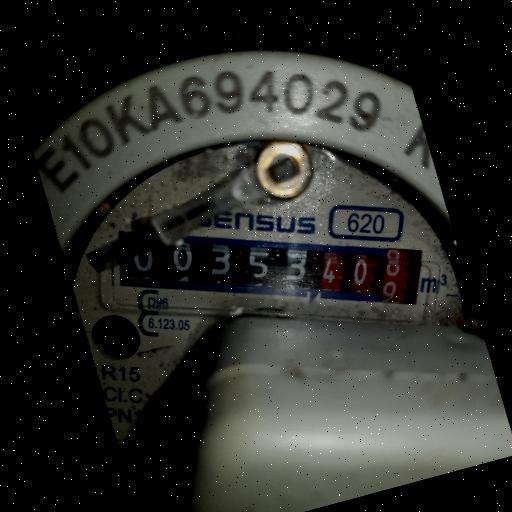0: (118, 229, 176, 289), (157, 234, 209, 290), (337, 246, 386, 301)
3: (191, 233, 247, 293), (269, 238, 323, 296)
4: (307, 245, 351, 296)
5: (232, 237, 283, 294)
8: (364, 240, 428, 313)
border_water_meter_number: (98, 156, 440, 385)
